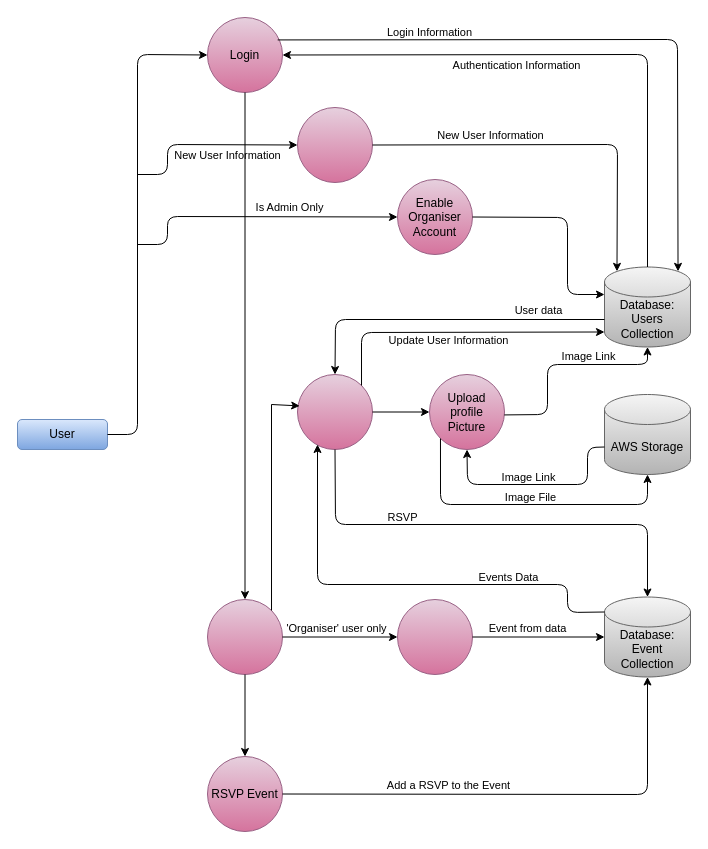
The diagram is 708 pixels wide and 849 high, and some of its shapes have lost their labels. Here are the shapes that lost their labels. From the top down, the centre of each, then its label:
At [334,144]: "Create Account".
At [334,412]: "Update Profile".
At [244,636]: "Home".
At [434,636]: "Create Event".
